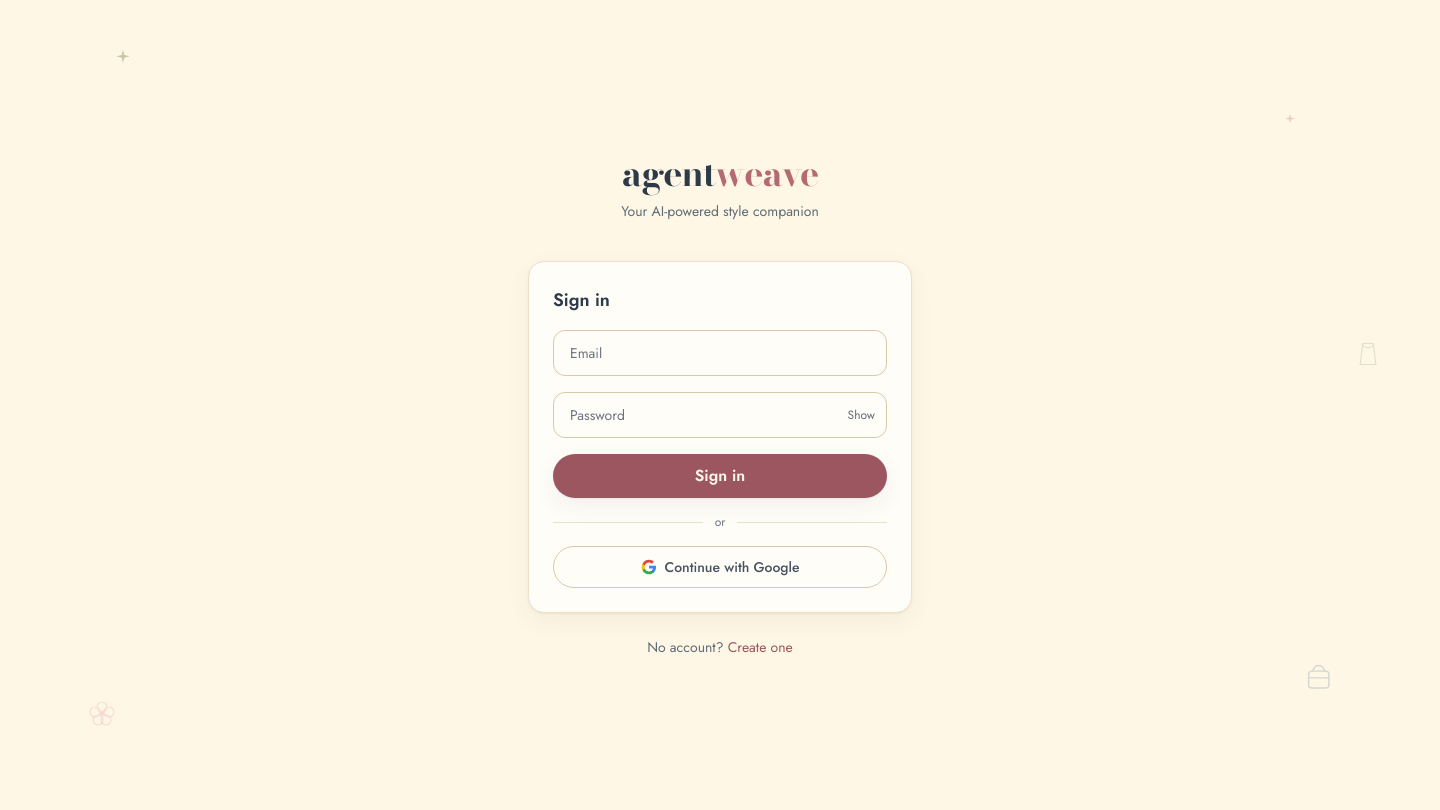
a Google failure without an error code still shows a message
Click the button "Continue with Google": (720, 567) x1=553 y1=546 x2=887 y2=588
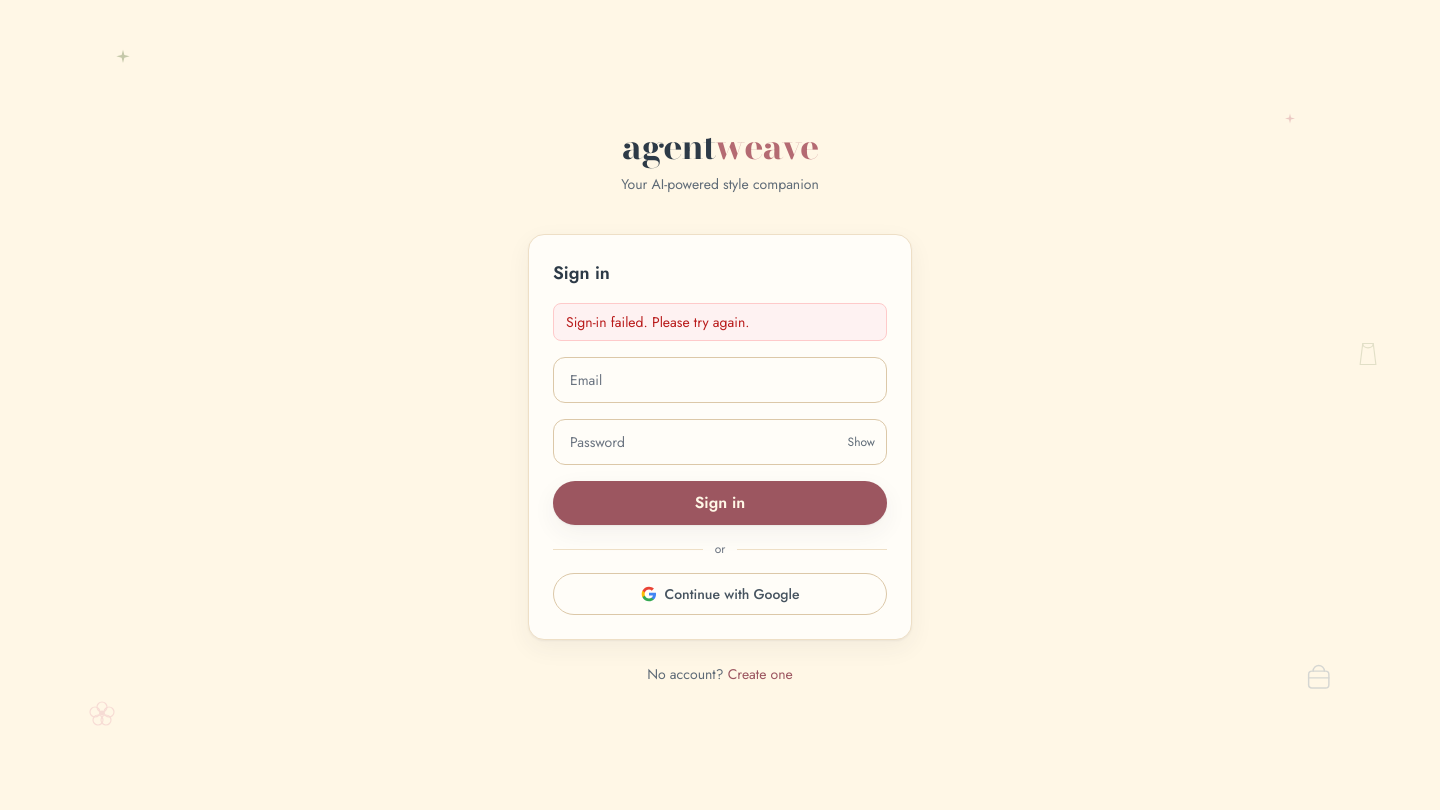
Result: the message reads "Sign-in failed. Please try again." at x1=566 y1=312 x2=749 y2=332
